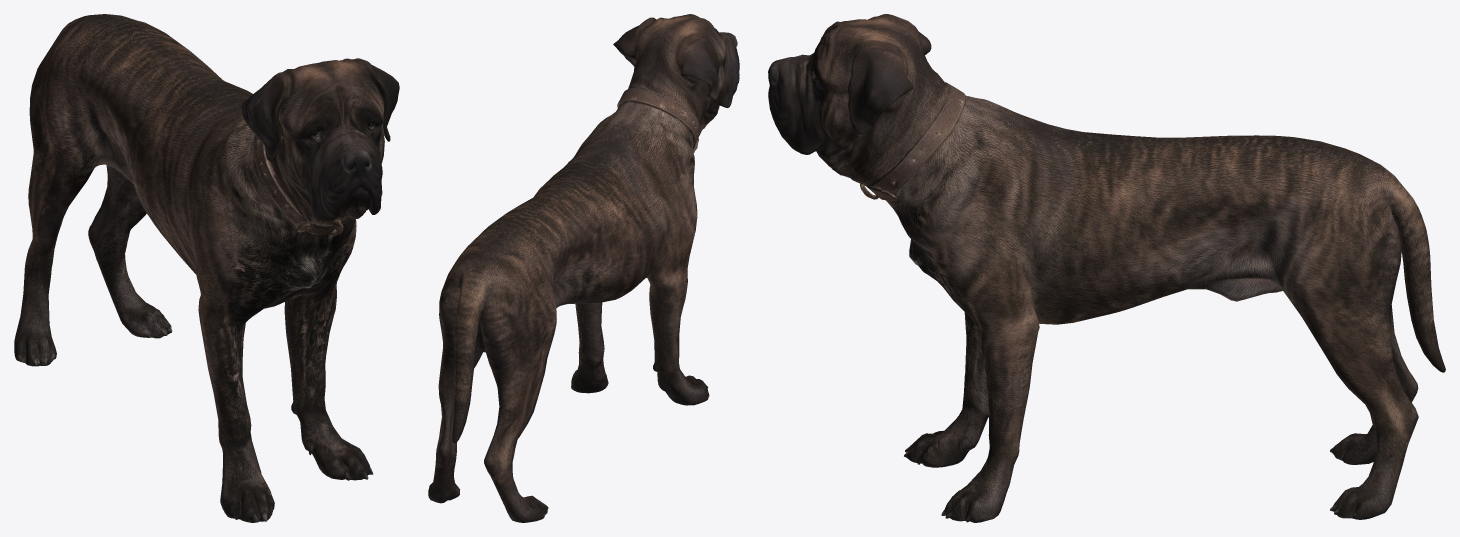
The model's file is mastiff.glb.
3 renders of one model, left to right at view 1: azimuth 30°, elevation 25°; view 2: azimuth 150°, elevation 25°; view 3: azimuth 270°, elevation 25°, orthographic. The views are drawn at different scales.
Size of the model in its own units: 0.5095 by 1.4 by 1.9.
Materials: 1 (1 with a texture image).
